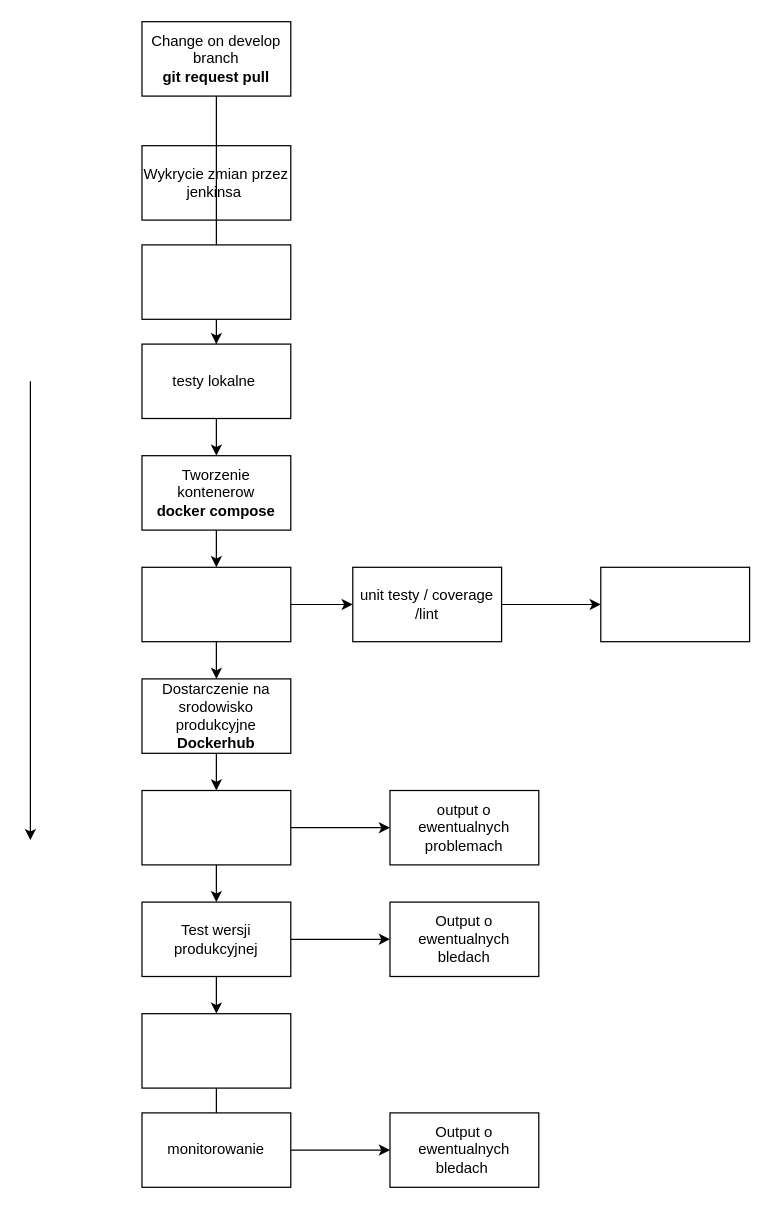
This 771x1209 diagram has some shape labels left out. The centre of each missing label's shape, as x and y in pixels:
jenkins job builder: the point at 216,281
output o ewentualnym bledzie: the point at 675,604
Release: the point at 216,1050
Testy funkcjonalne / integracyjne ze srodowiskiem docelowym: the point at 216,827
Testy npm test: the point at 216,604
